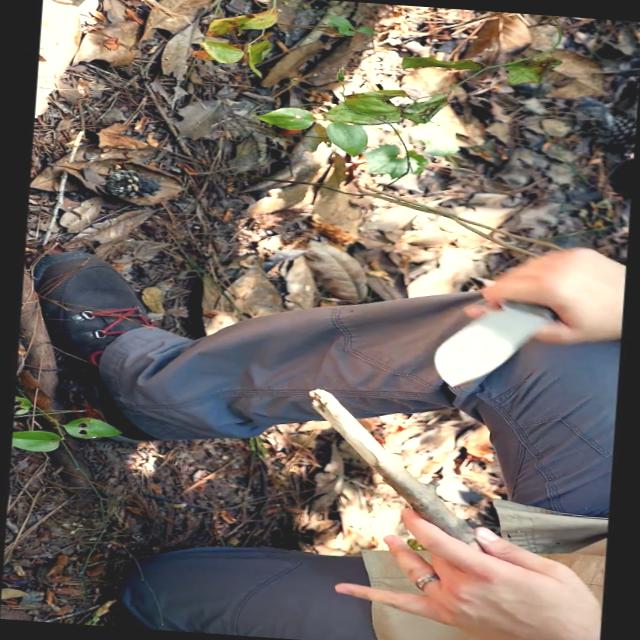knife: (420, 258, 588, 400)
